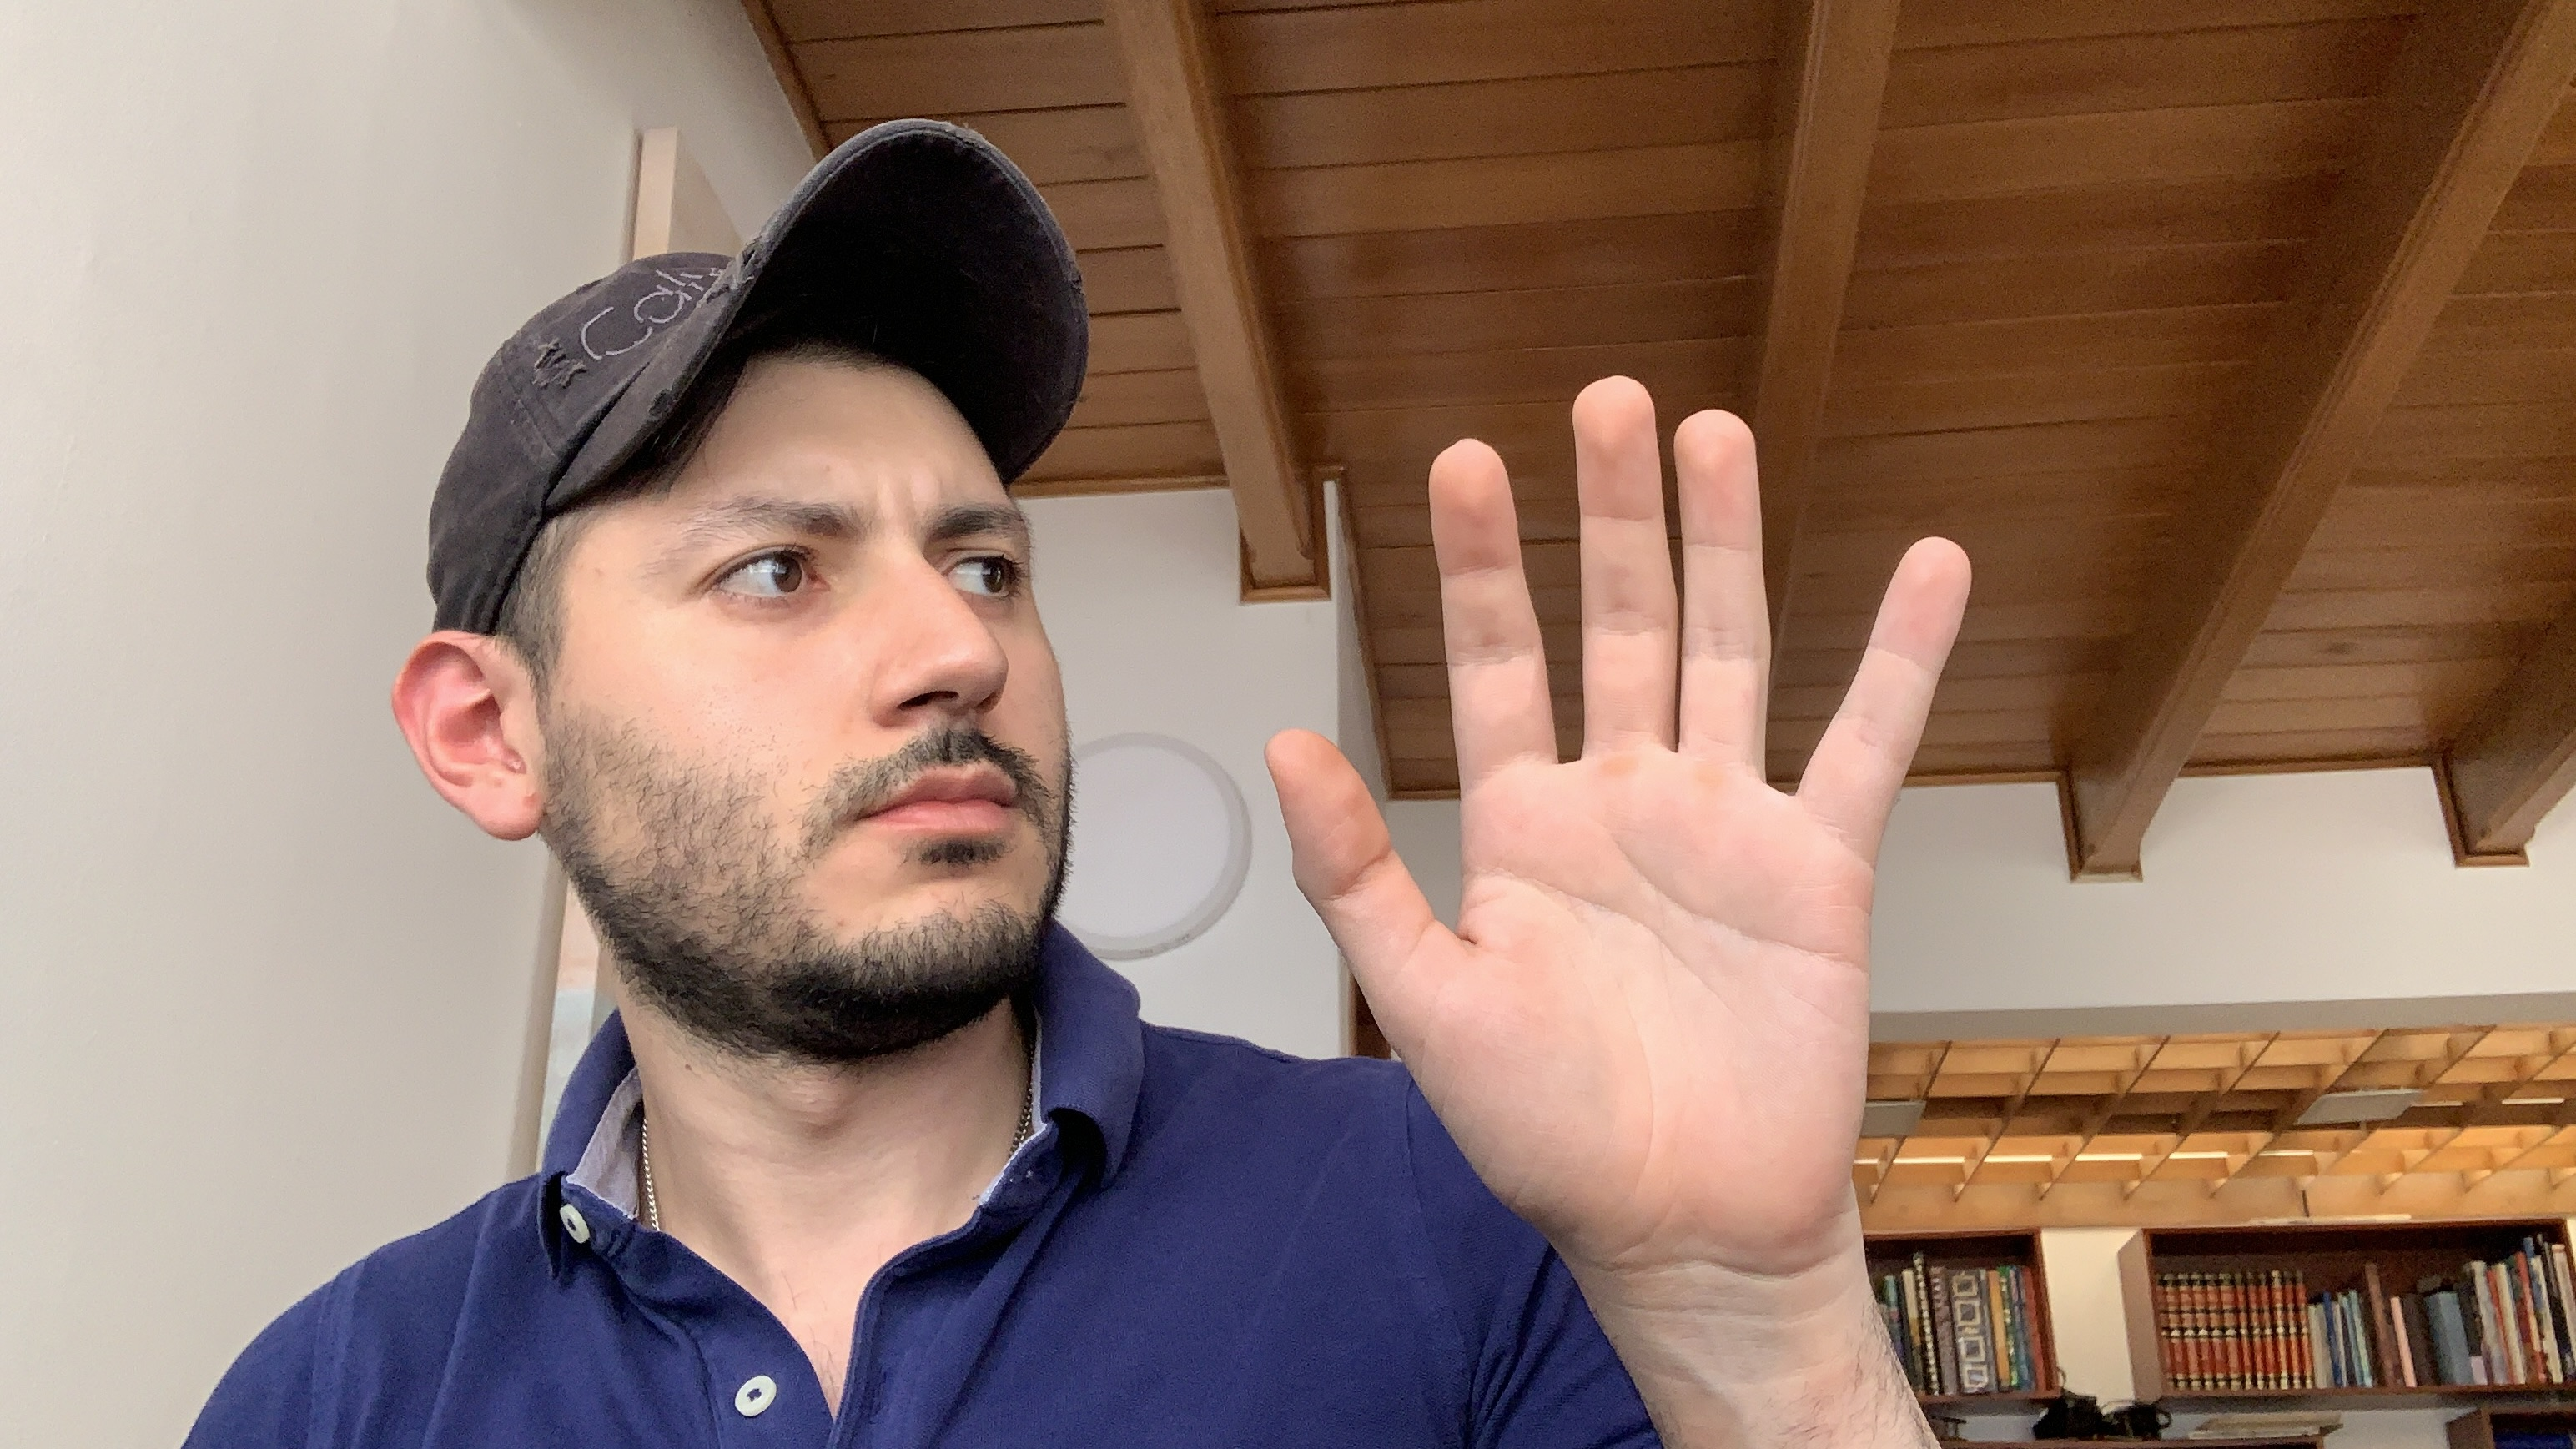Hello: (1258, 368, 1987, 1299)
